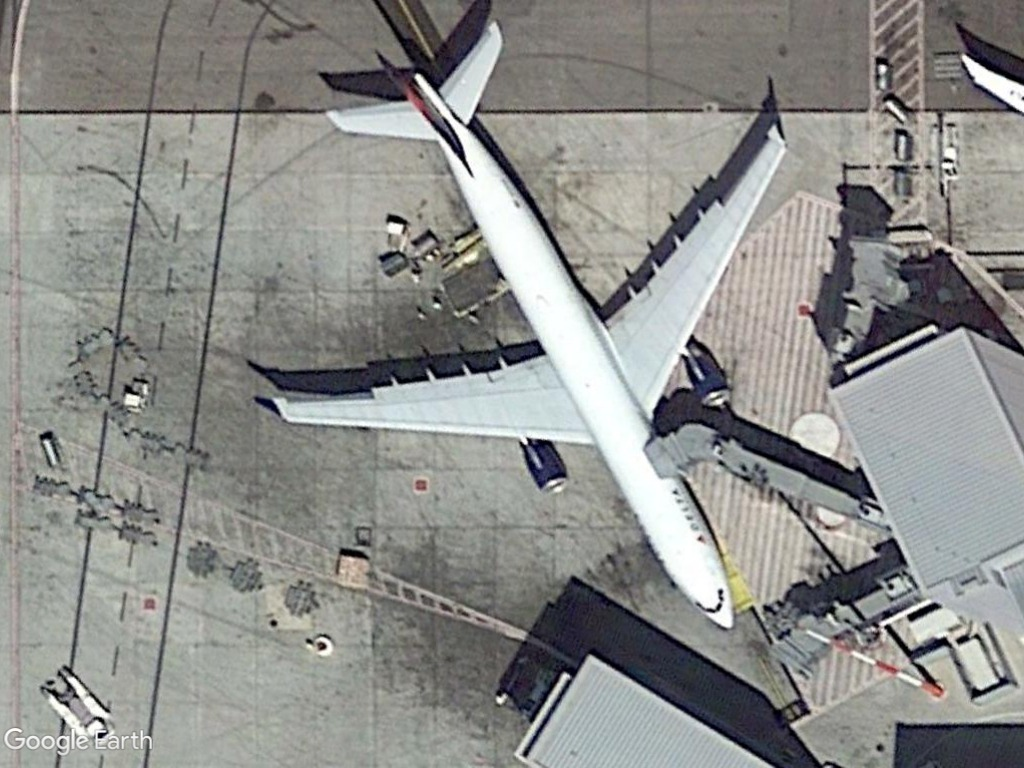airliner: (266, 14, 795, 638)
pushbacktruck: (35, 666, 118, 745)
